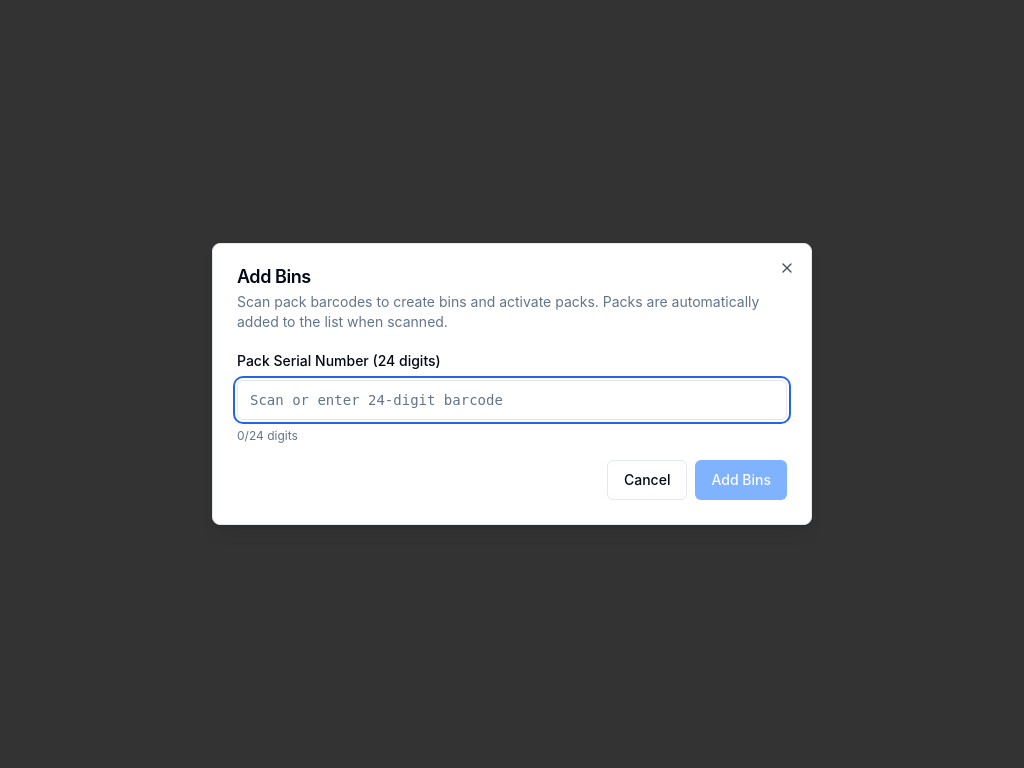
AddBinModal (Client Dashboard) - Auto-Add Flow › Serial Input and Auto-Focus › should display digit counter showing progress
The width and height of the screenshot is (1024, 768).
Expected: the text "0/24 digits" is shown, [237,428,298,444]
Type some digits
Type "123456" into the field with test id "pack-serial-input".
click(512, 400); type("123456")  # box [237,380,787,420]
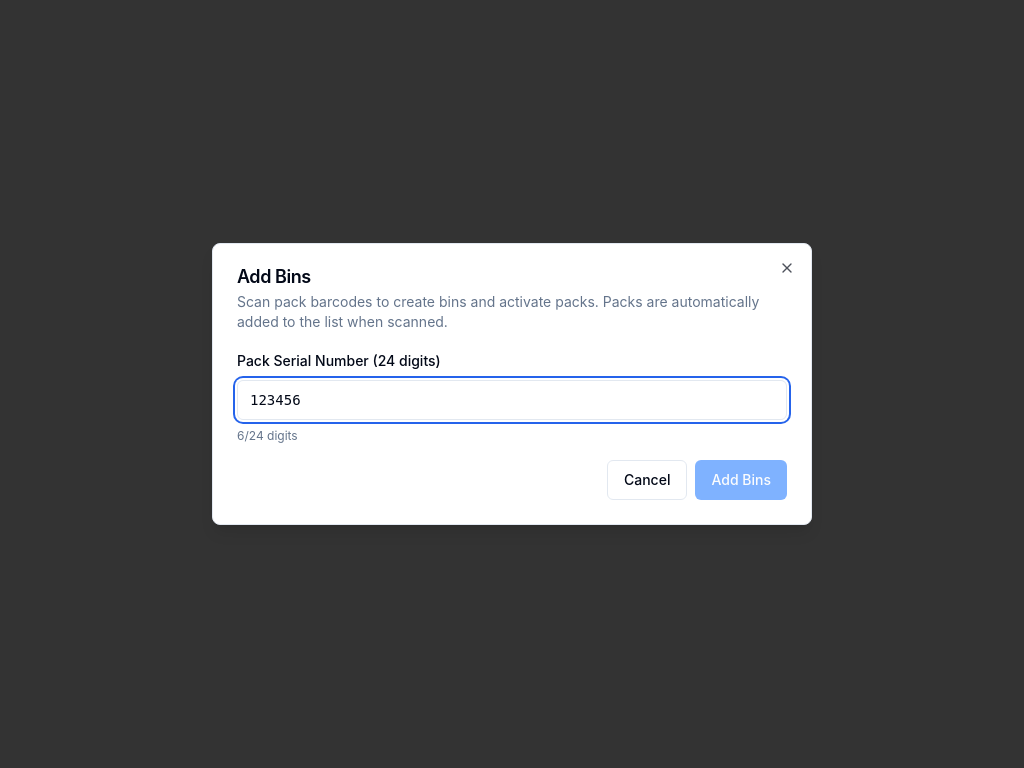
Result: the text "6/24 digits" is shown at [237,428,298,444]
